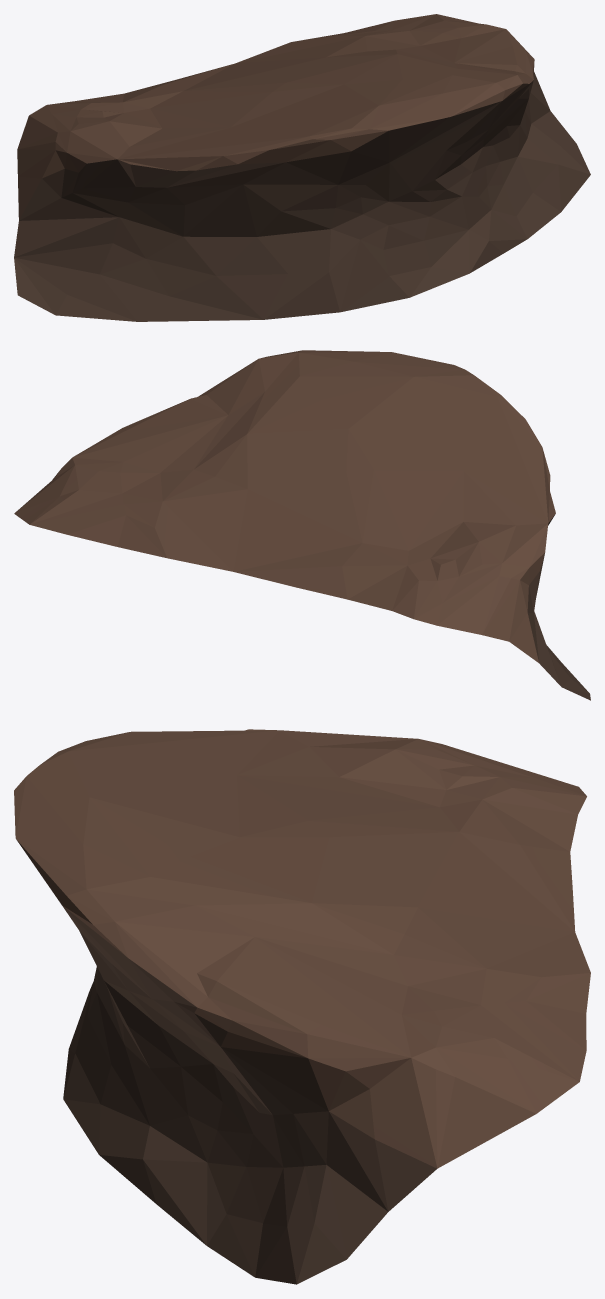
3 views of the same model, one above another, from view 1: azimuth 30°, elevation 25°; view 2: azimuth 150°, elevation 25°; view 3: azimuth 270°, elevation 25° (orthographic). The views are drawn at different scales.
Visible parts, largest first — view 1: SM_Terrain_GrassEdge_01; view 2: SM_Terrain_GrassEdge_01; view 3: SM_Terrain_GrassEdge_01.
Part boxes in pixels (x1=…): SM_Terrain_GrassEdge_01: x1=14, y1=14, x2=590, y2=321; SM_Terrain_GrassEdge_01: x1=14, y1=350, x2=590, y2=700; SM_Terrain_GrassEdge_01: x1=14, y1=729, x2=590, y2=1284.
Size of the model in its own units: 10.12 by 3.64 by 6.11.
Materials: 1 (1 with a texture image).
